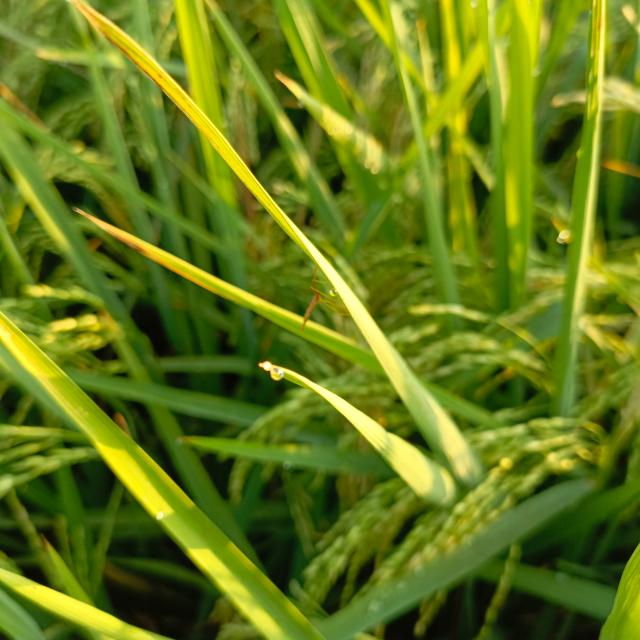green leaf hopper: (296, 262, 355, 334)
